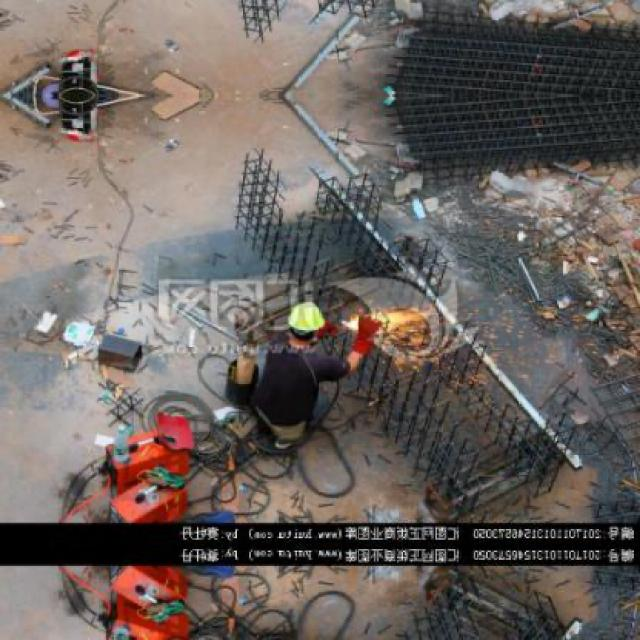helmet: (285, 301, 329, 342)
